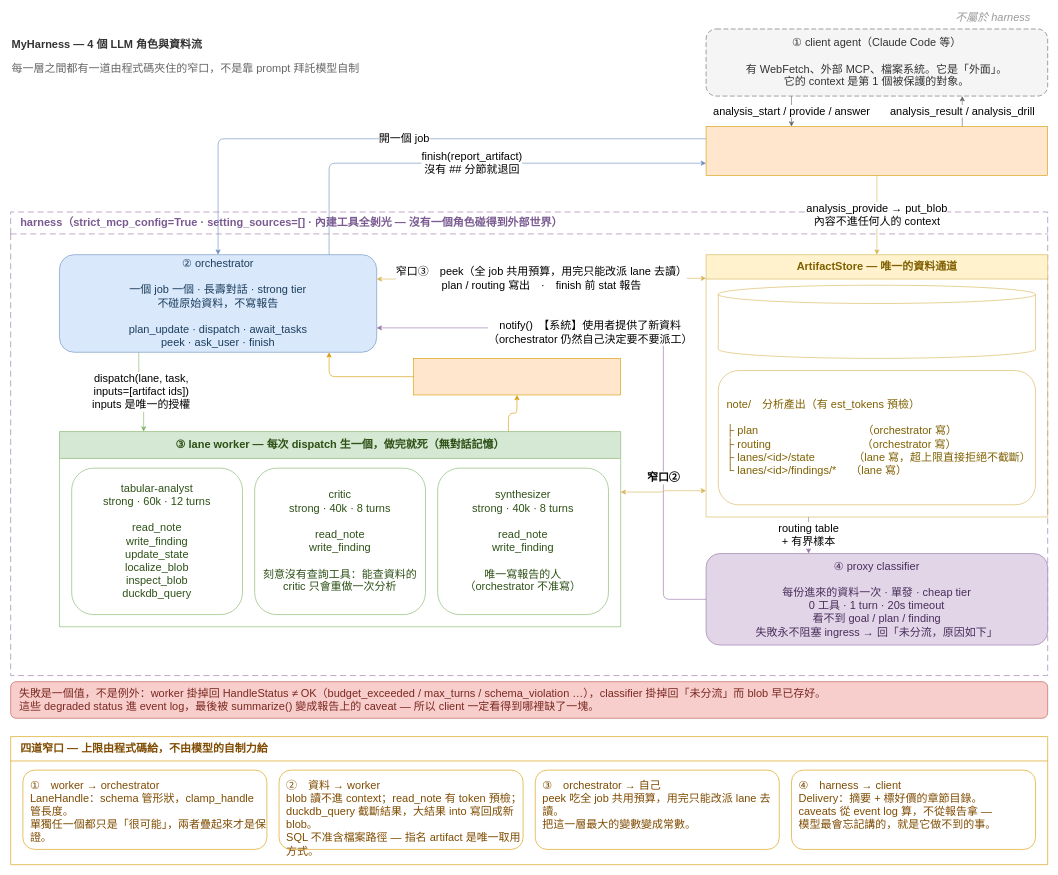
Image size: 1058x875. Some labels were removed from this diagram. The shapes that lost their labels are listed below. From the top down, each one's centre as x and y in pixels, then its label:
At [876,150]: "窄口④ MCP 邊界 · Delivery 摘要（≤1500 chars）+ 章節價目表 + caveats（從 event log 算，不從報告拿）".
At [876,321]: "blob/ 原始資料 拒絕讀入 context。只能 localize_blob 拿路徑，或用 SQL 查。".
At [517,376]: "窄口① LaneHandle ≤ 2000 chars schema 管形狀 + clamp_handle 管長度".
